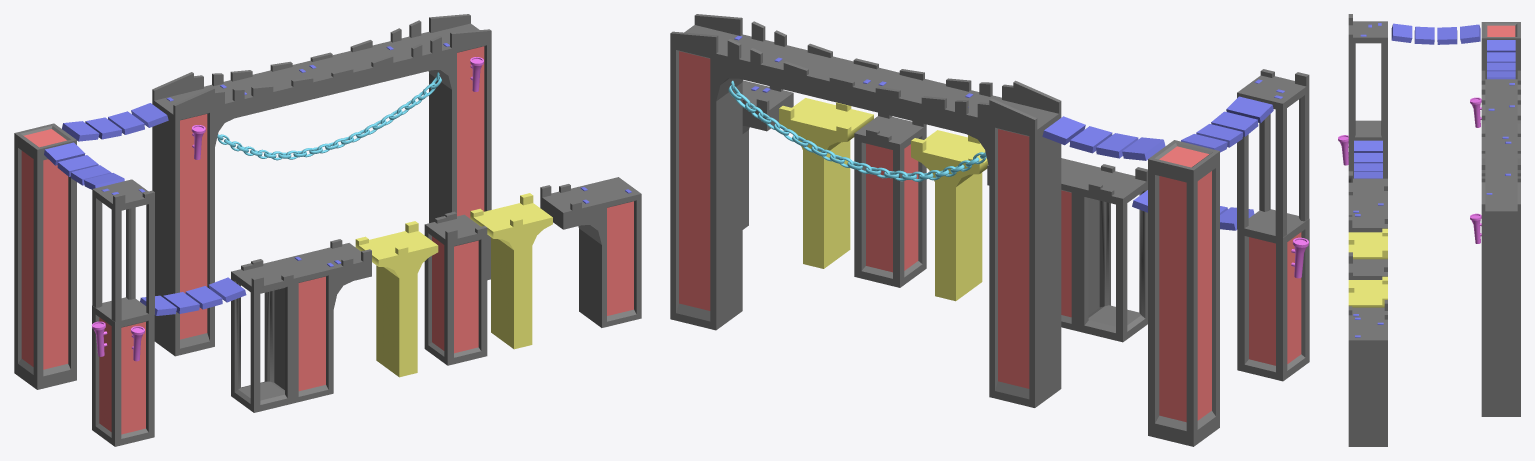
The picture shows the model from 3 angles, left to right: view 1: azimuth 30°, elevation 25°; view 2: azimuth 150°, elevation 25°; view 3: azimuth 270°, elevation 25°; orthographic projection. The views are drawn at different scales.
Visible parts, largest first — view 1: Object006, Object007, Box017, Object009, Object003, Object004, Object001, Object002, Box014, Object008, Box054, Cylinder003; view 2: Object006, Object007, Box017, Object001, Object004, Object002, Object008, Box014, Object003, Box054, Object009; view 3: Object006, Object009, Box014, Object008, Box017, Object003, Object007, Object001, Object004, Object002, Cylinder003, Box034.
Boxes of the visible parts, x1=… form: Object006: x1=152, y1=14, x2=491, y2=356; Object007: x1=14, y1=123, x2=76, y2=389; Box017: x1=355, y1=193, x2=552, y2=377; Object009: x1=540, y1=177, x2=641, y2=327; Object003: x1=271, y1=239, x2=371, y2=403; Object004: x1=424, y1=211, x2=487, y2=365; Object001: x1=92, y1=297, x2=154, y2=446; Object002: x1=231, y1=259, x2=293, y2=412; Box014: x1=44, y1=103, x2=246, y2=315; Object008: x1=92, y1=179, x2=154, y2=324; Box054: x1=217, y1=72, x2=441, y2=160; Cylinder003: x1=92, y1=57, x2=483, y2=361; Object006: x1=670, y1=14, x2=1061, y2=407; Object007: x1=1148, y1=140, x2=1219, y2=446; Box017: x1=779, y1=98, x2=988, y2=301; Object001: x1=1237, y1=209, x2=1309, y2=381; Object004: x1=854, y1=112, x2=926, y2=287; Object002: x1=1077, y1=164, x2=1147, y2=342; Object008: x1=1237, y1=69, x2=1309, y2=240; Box014: x1=1042, y1=96, x2=1273, y2=230; Object003: x1=987, y1=158, x2=1100, y2=330; Box054: x1=728, y1=80, x2=986, y2=181; Object009: x1=742, y1=80, x2=793, y2=229; Object006: x1=1481, y1=70, x2=1520, y2=416; Object009: x1=1348, y1=300, x2=1387, y2=446; Box014: x1=1354, y1=23, x2=1515, y2=178; Object008: x1=1348, y1=14, x2=1387, y2=138; Box017: x1=1348, y1=228, x2=1387, y2=307; Object003: x1=1348, y1=195, x2=1387, y2=232; Object007: x1=1481, y1=22, x2=1520, y2=79; Object001: x1=1348, y1=120, x2=1387, y2=178; Object004: x1=1348, y1=252, x2=1387, y2=279; Object002: x1=1348, y1=171, x2=1387, y2=195; Cylinder003: x1=1338, y1=97, x2=1481, y2=243; Box034: x1=1353, y1=23, x2=1514, y2=337.
Bounding box in the file's own units: 135 × 62.09 × 46.65.
